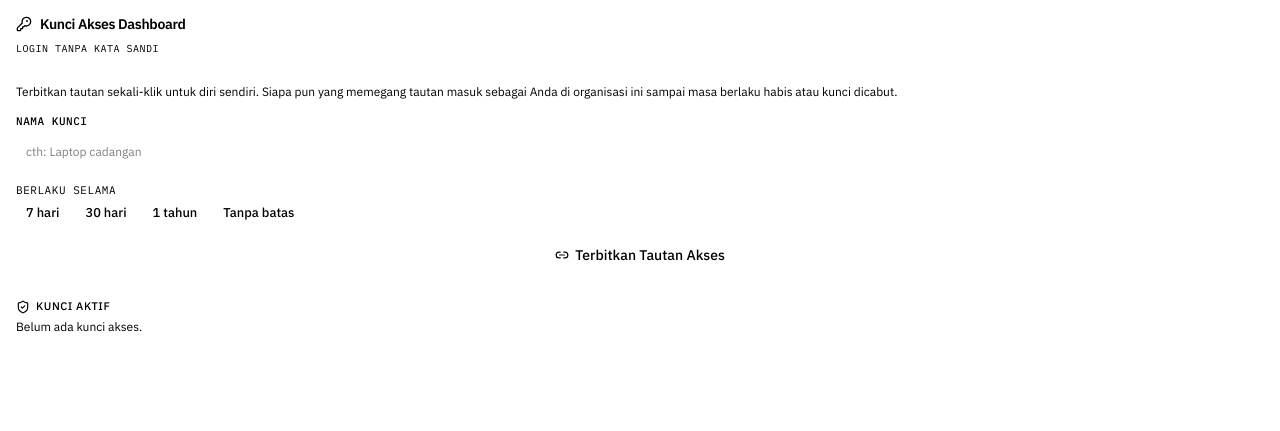
Test: pengaturan kunci akses dashboard › menerbitkan tautan akses sekali lihat
The width and height of the screenshot is (1280, 431).
In the field labelled "Nama kunci": (640, 152) [16,136,1264,168], type "Laptop cadangan"
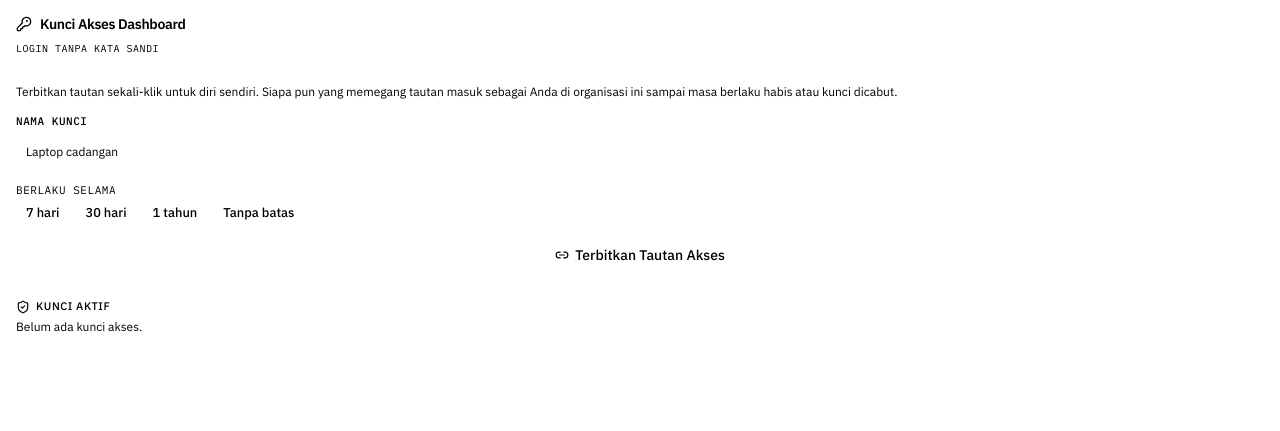
Submit the form, box [16,114,1264,272]
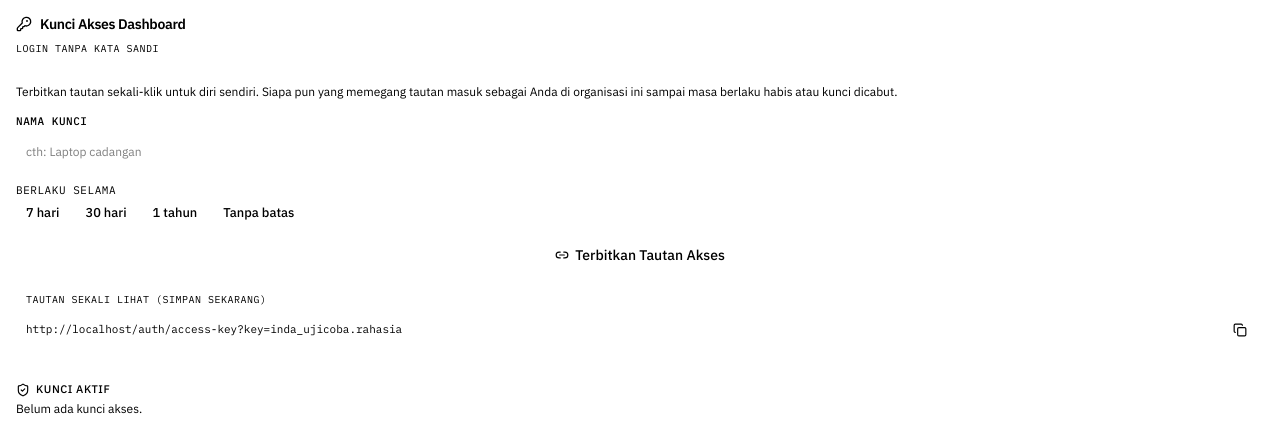
Expected: the text "http://localhost/auth/access-key?key=inda_ujicoba.rahasia" is shown, [26,322,402,338]
